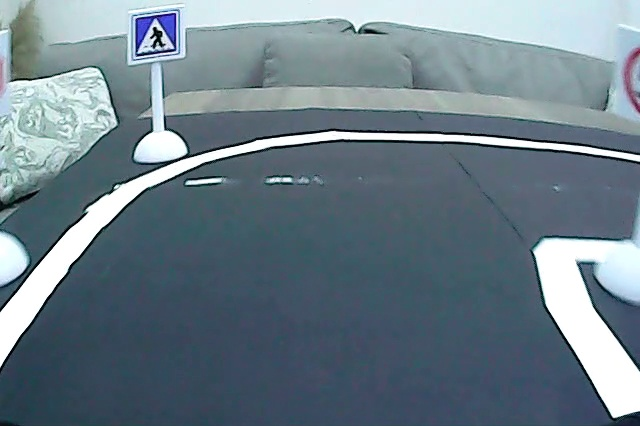pedestrian crossing: (128, 10, 181, 61)
